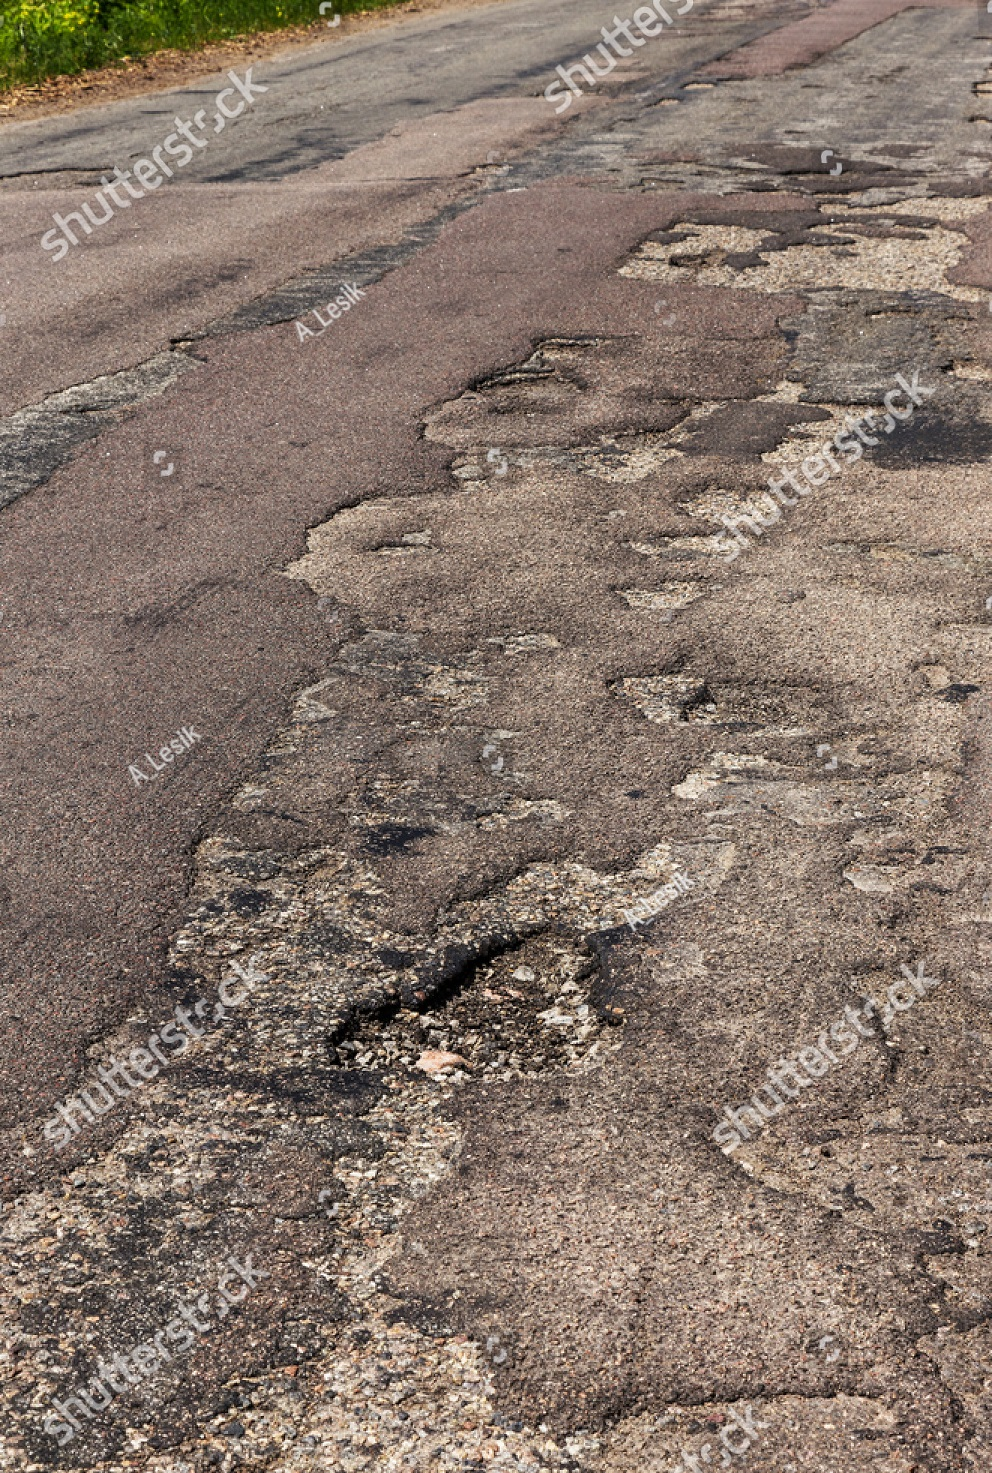potholeGroup: (183, 157, 945, 1446)
